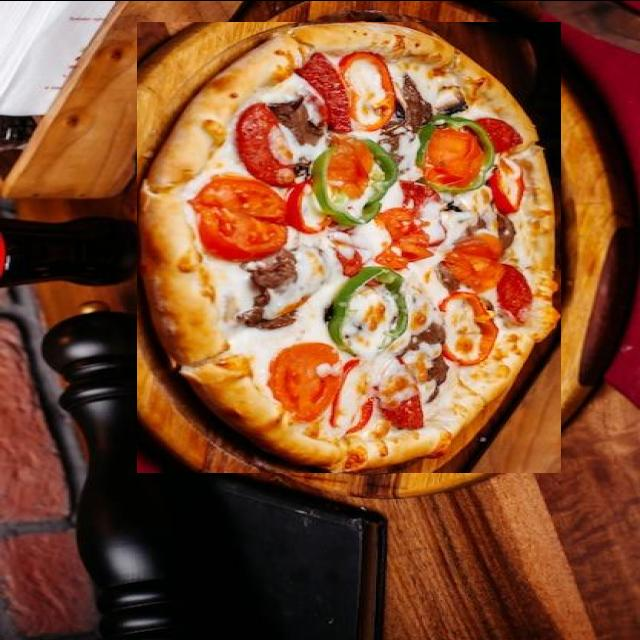pepperoni: (389, 308, 462, 392), (164, 170, 201, 230), (273, 64, 322, 101), (174, 341, 222, 376)
pizza: (137, 21, 561, 472)
